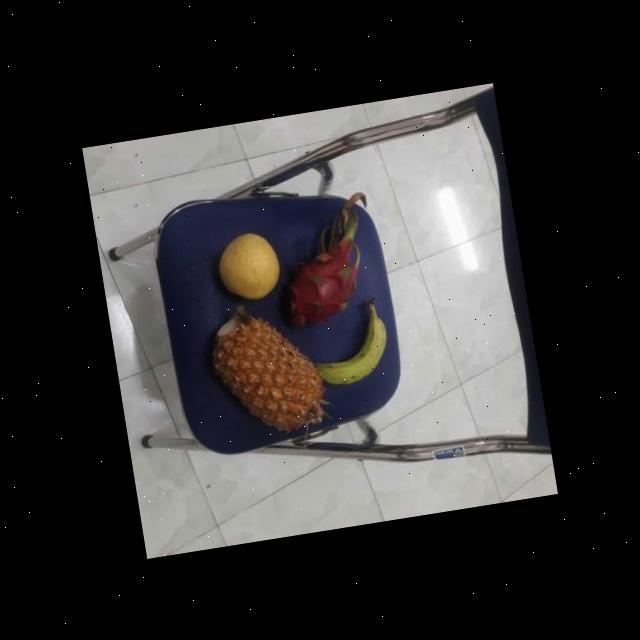banana: (307, 304, 398, 392)
pear: (210, 226, 284, 310)
pineapple: (204, 302, 330, 443)
pitaya: (272, 237, 368, 332)
